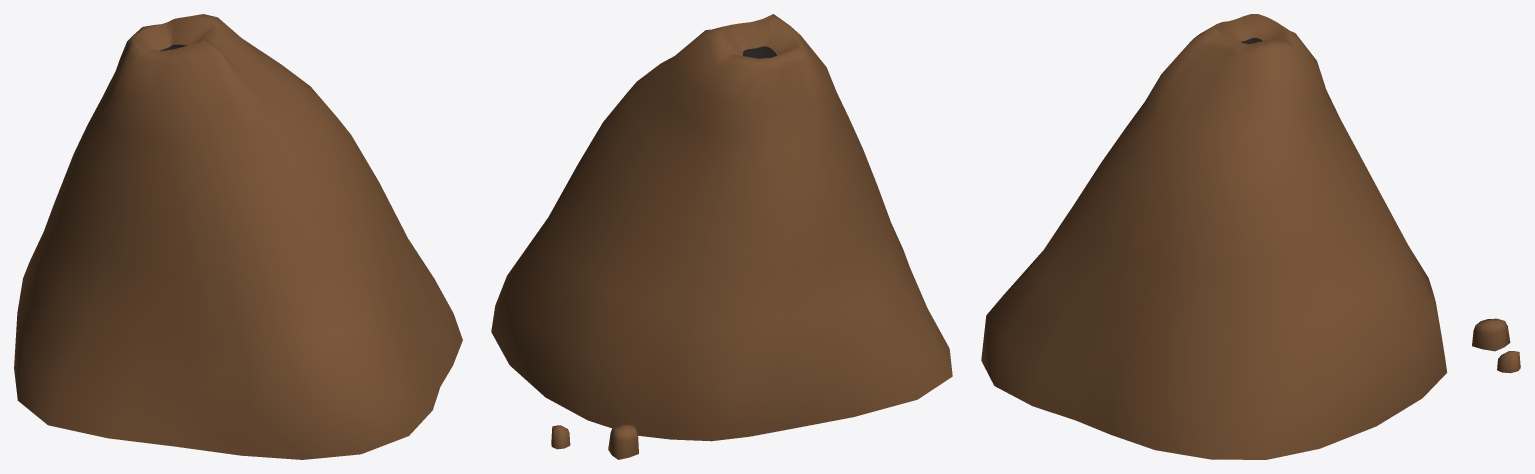
The model's file is anthill.fbx.
3 views of the same model, side by side, from view 1: azimuth 30°, elevation 25°; view 2: azimuth 150°, elevation 25°; view 3: azimuth 270°, elevation 25° (orthographic). The views are drawn at different scales.
Visible parts, largest first — view 1: Cone; view 2: Cone; view 3: Cone.
Boxes of the visible parts, box(x1,y1,x2,y2) form: Cone: box(14, 14, 462, 459); Cone: box(491, 14, 952, 459); Cone: box(981, 14, 1520, 459).
Size of the model in its own units: 112 by 86.42 by 132.
